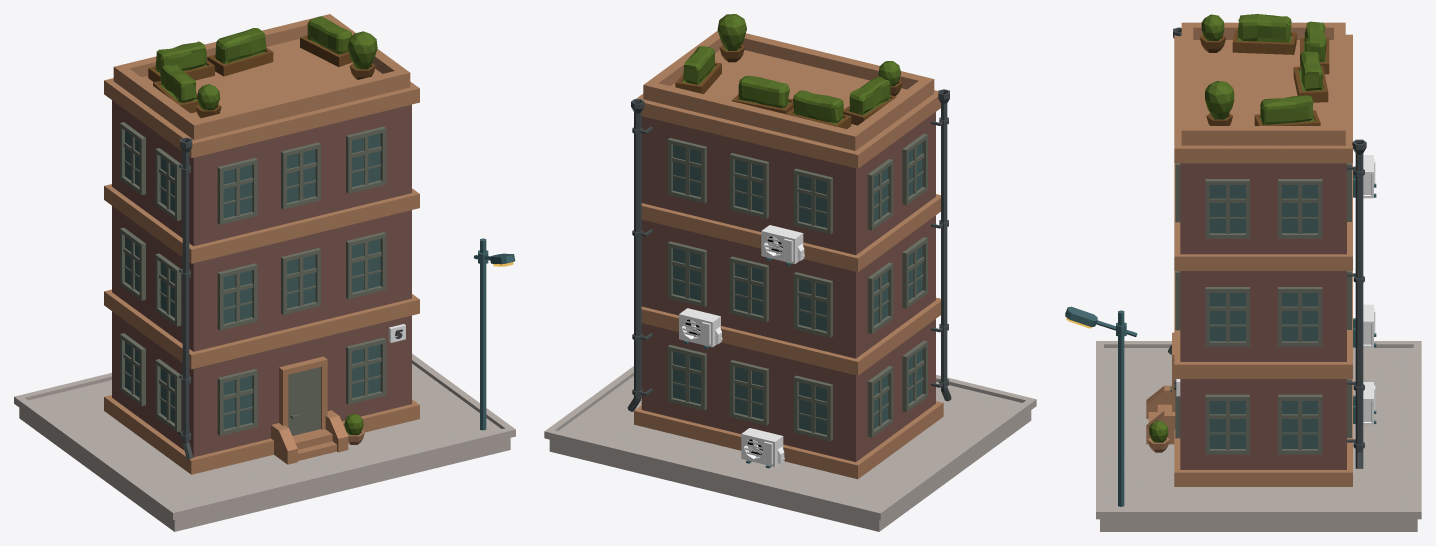
The model's file is pp-burhouse.glb.
3 views of the same model, side by side, from view 1: azimuth 30°, elevation 25°; view 2: azimuth 150°, elevation 25°; view 3: azimuth 270°, elevation 25° (orthographic). The views are drawn at different scales.
Visible parts, largest first — view 1: Box15904, window_169, Cylinder1722, Box15926; view 2: Box15904, window_169, Cylinder1722; view 3: Box15904, window_169, Cylinder1722, Box15926.
Boxes of the visible parts, x1,y1,x2,y2 form: Box15904: (14,14,515,531); window_169: (125,131,380,429); Cylinder1722: (179,137,193,459); Box15926: (473,238,515,430); Box15904: (544,14,1036,531); window_169: (673,142,922,434); Cylinder1722: (627,89,951,411); Box15904: (1096,14,1421,531); window_169: (1209,185,1317,448); Cylinder1722: (1168,27,1366,468); Box15926: (1065,170,1376,506).
Bounding box in the file's own units: 10.2 × 11.26 × 8.97.
5 materials, 5 textured.
